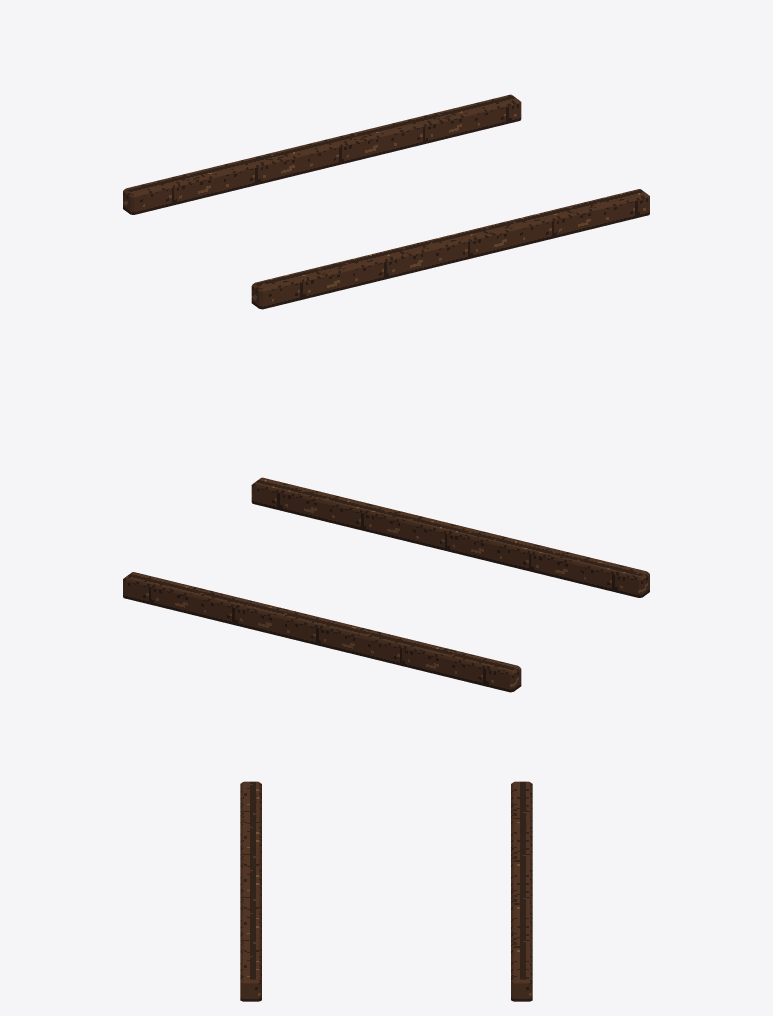
Rendered from dgn.ceiling__flat_2x3.glb.
The picture shows the model from 3 angles, top to bottom: view 1: azimuth 30°, elevation 25°; view 2: azimuth 150°, elevation 25°; view 3: azimuth 270°, elevation 25°; orthographic projection. The views are drawn at different scales.
Parts seen in each view (by area): view 1: kit_beams; view 2: kit_beams; view 3: kit_beams.
Boxes of the visible parts, <box> form: kit_beams: <box>123,94,649,309</box>; kit_beams: <box>123,477,649,692</box>; kit_beams: <box>240,781,532,1001</box>.
Bounding box in the file's own units: 7 × 0.34 × 11.
Materials: 2 (2 with a texture image).
